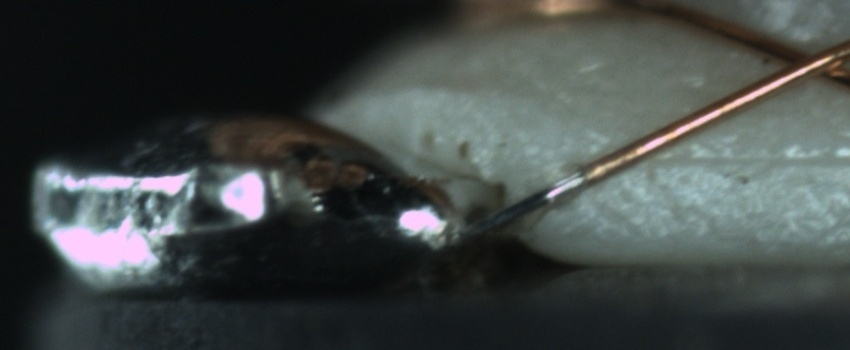CL: (752, 31, 847, 92)
DL: (615, 125, 845, 192)
TS: (443, 169, 584, 248)
